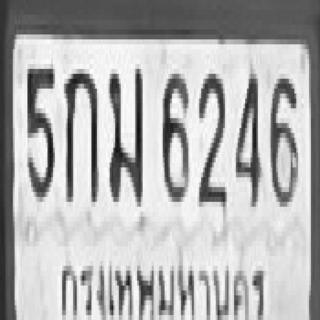A01: (62, 64, 97, 197)
A33: (108, 62, 141, 199)
N02: (196, 69, 224, 202)
N04: (234, 69, 260, 202)
N05: (26, 59, 53, 197)
N06: (269, 69, 296, 202), (161, 69, 186, 197)
P04: (54, 245, 268, 320)
